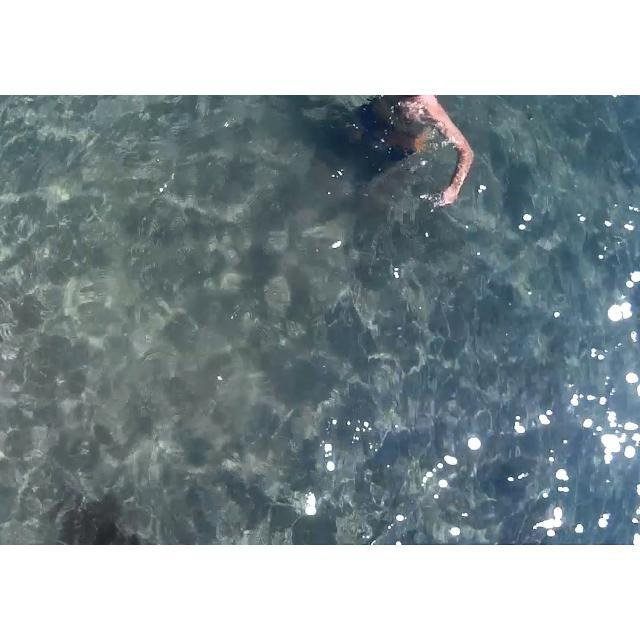human: (316, 95, 469, 224)
